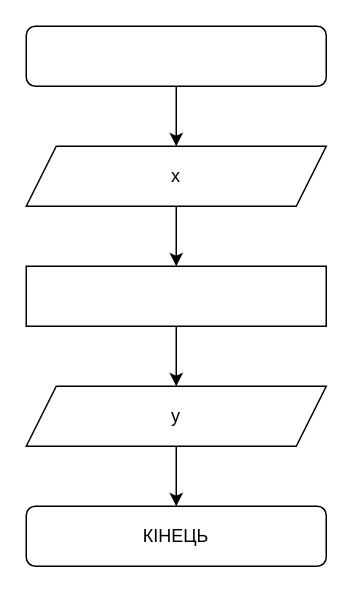
Image size: 353x593. Some labels were removed from this diagram. Here are the shapes that lost their labels. From the top down, the box of each, then its label:
(25, 25, 326, 86): ПОЧАТОК
(25, 265, 326, 326): y = log2( fabs( (pow(x, 2) - 4) / (pow(x, 2) - 1) ) );
